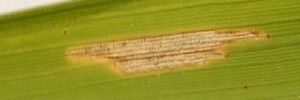RiceBacterialBlight: (67, 23, 273, 79)
